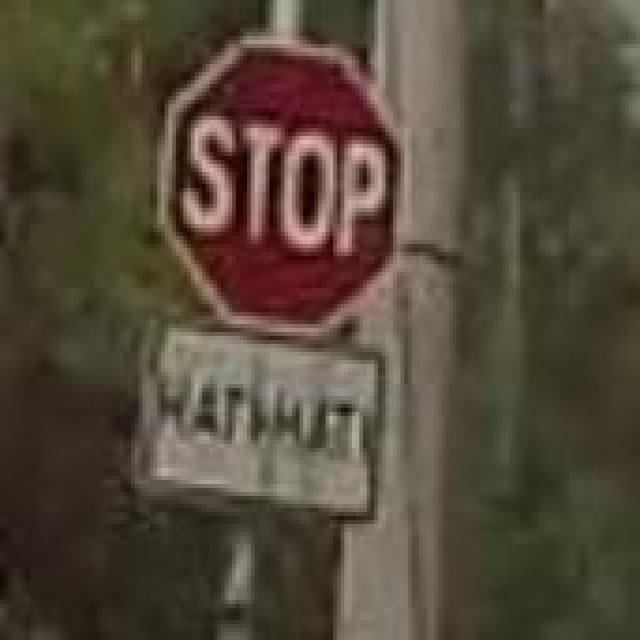traffic sign: (172, 44, 408, 336)
